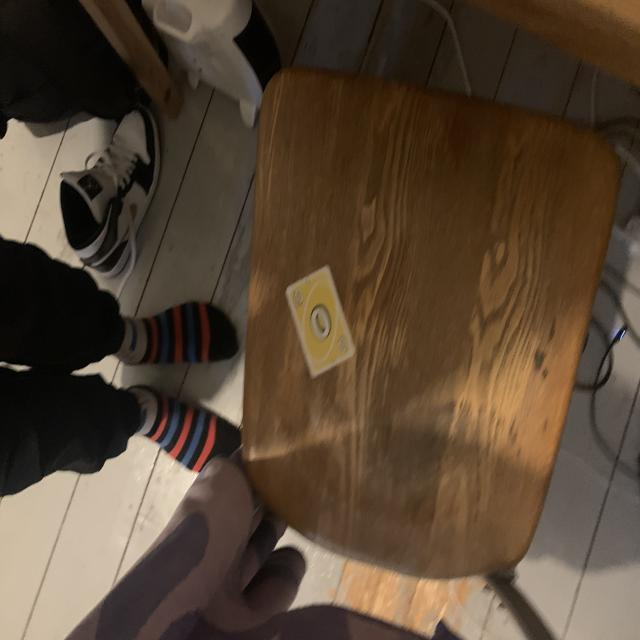lyellow-0: (290, 288, 306, 308)
